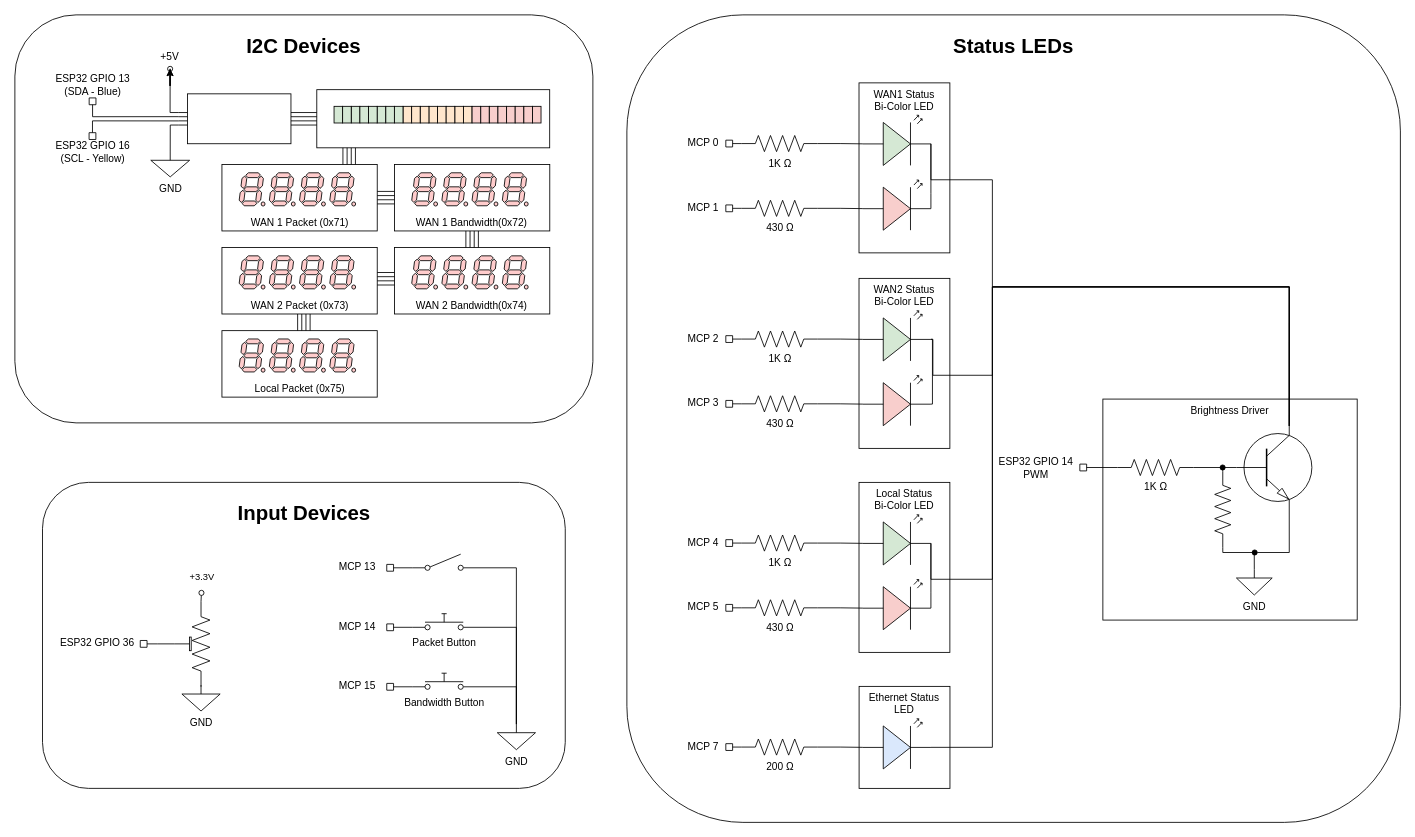
Some shapes in this 1415 by 837 pixel diagram are drawn without their labels. The shapes that lost their labels are listed below. From the top down, each one's centre as x and y in pixels, then its label:
At (239,118): "MCP 23017 GPIO Expander (0x20)".
At (433,118): "Freshness Indicator (0x70)".
At (1274,467): "2N2222".
At (1222,509): "100K Ω".
At (443,562): "Display On/Off".
At (191,643): "Brightness Potentiometer".
